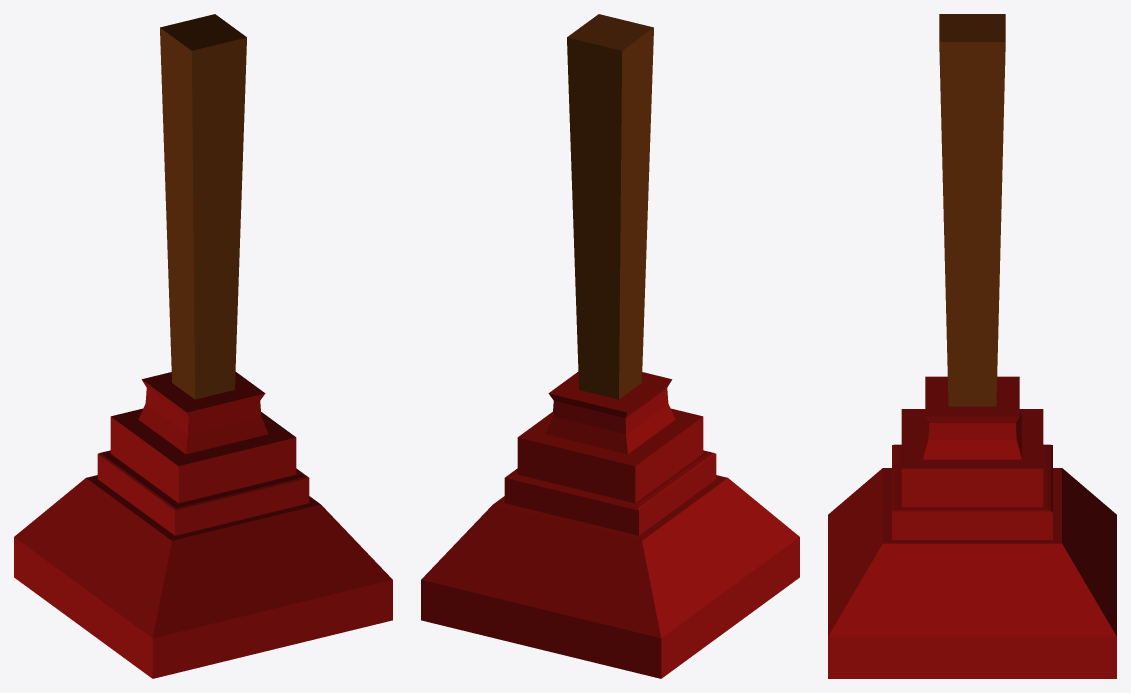
Rendered from Plunger.fbx.
The picture shows the model from 3 angles, left to right: view 1: azimuth 30°, elevation 25°; view 2: azimuth 150°, elevation 25°; view 3: azimuth 270°, elevation 25°; orthographic projection. The views are drawn at different scales.
Visible parts, largest first — view 1: Node 0; view 2: Node 0; view 3: Node 0.
Part boxes in pixels (<box>): Node 0: <box>14,14,392,678</box>; Node 0: <box>421,14,799,678</box>; Node 0: <box>828,14,1116,678</box>.
Bounding box in the file's own units: 0.3412 × 0.769 × 0.3412.
